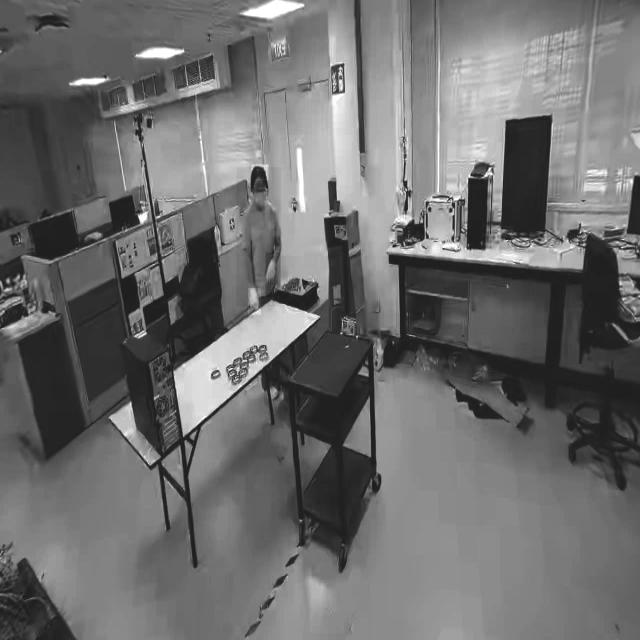face_mask: (252, 183, 270, 218)
hand_glove: (265, 252, 281, 298), (247, 288, 261, 316)
head_nohelmet: (251, 164, 269, 180)
person: (236, 167, 281, 308)
